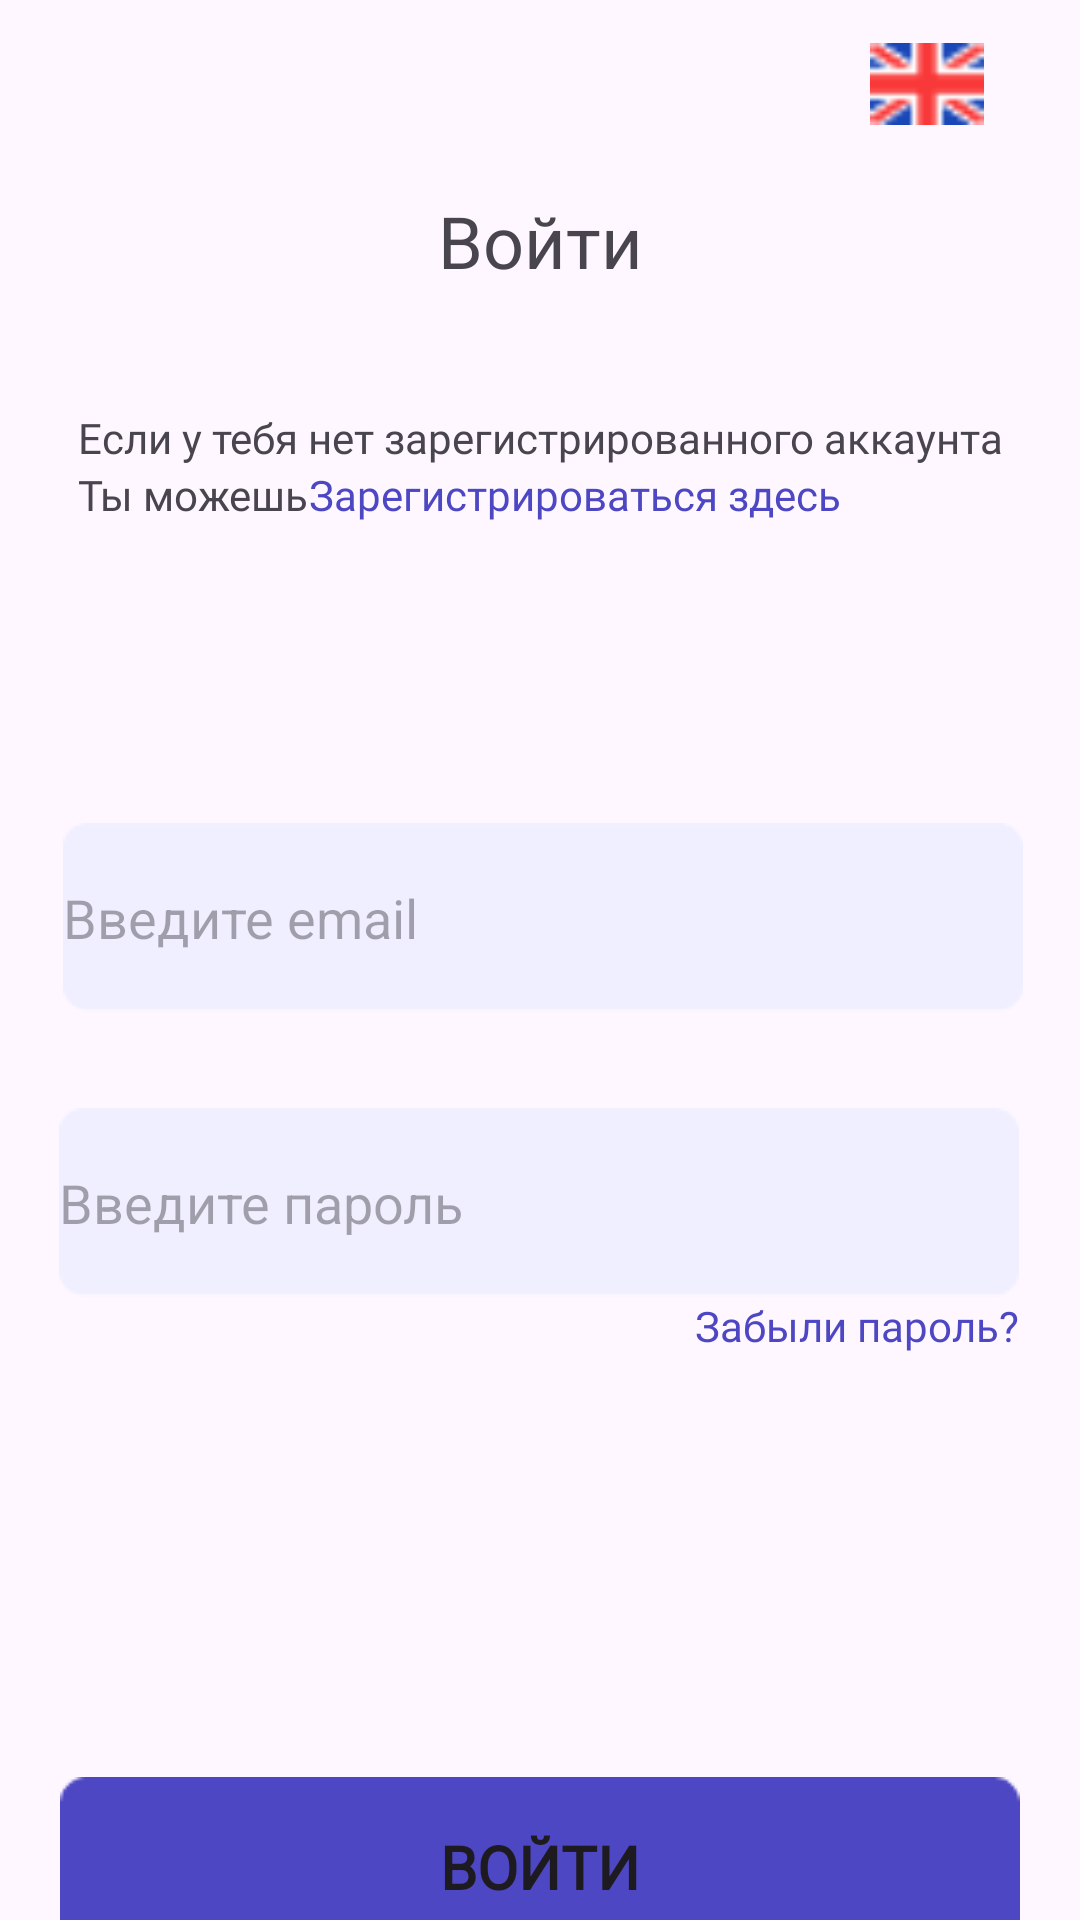

Screen size 1080 × 1920. Icon name, then its box in pixels as BBox(x1, y1, x2, y2):
unitedkingdom: BBox(870, 43, 984, 125)
